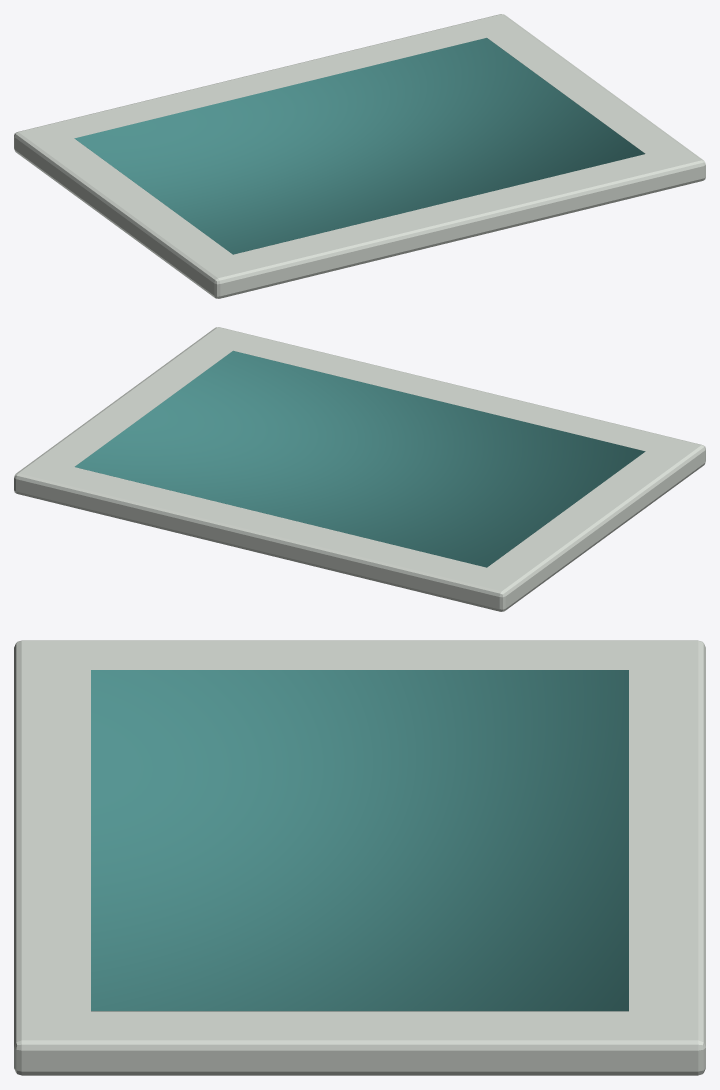
Rendered from VLAB_cutting_board.fbx.
The picture shows the model from 3 angles, top to bottom: view 1: azimuth 30°, elevation 25°; view 2: azimuth 150°, elevation 25°; view 3: azimuth 270°, elevation 25°; orthographic projection. The views are drawn at different scales.
Parts seen in each view (by area): view 1: VLAB_cutting_board_SampleArea_VIS, VLAB_cutting_board_Board_VIS; view 2: VLAB_cutting_board_SampleArea_VIS, VLAB_cutting_board_Board_VIS; view 3: VLAB_cutting_board_SampleArea_VIS, VLAB_cutting_board_Board_VIS.
Boxes of the visible parts, bbox=[...] form: VLAB_cutting_board_SampleArea_VIS: bbox=[74, 38, 644, 254]; VLAB_cutting_board_Board_VIS: bbox=[14, 14, 705, 298]; VLAB_cutting_board_SampleArea_VIS: bbox=[75, 351, 645, 567]; VLAB_cutting_board_Board_VIS: bbox=[14, 327, 705, 611]; VLAB_cutting_board_SampleArea_VIS: bbox=[91, 670, 628, 1011]; VLAB_cutting_board_Board_VIS: bbox=[14, 640, 705, 1075].
Bounding box in the file's own units: 0.25 × 0.01 × 0.18.
